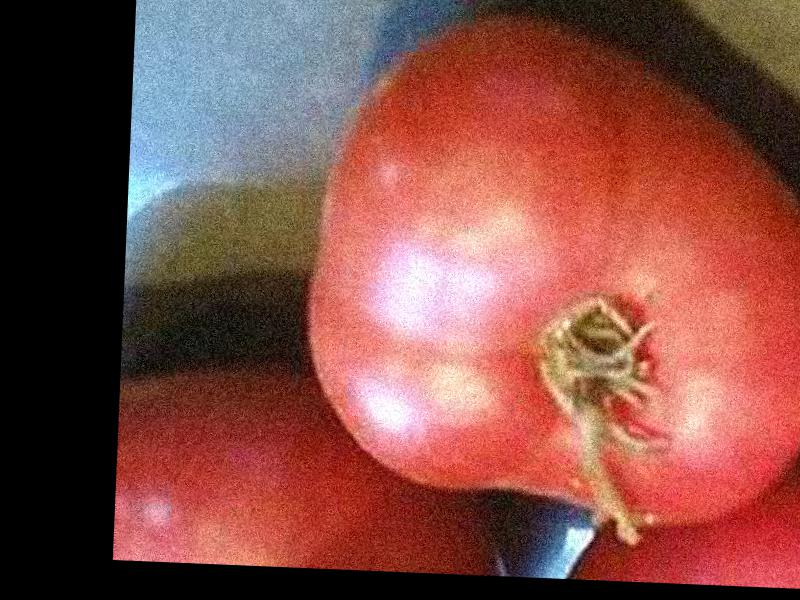Tomato: (299, 11, 800, 531)
